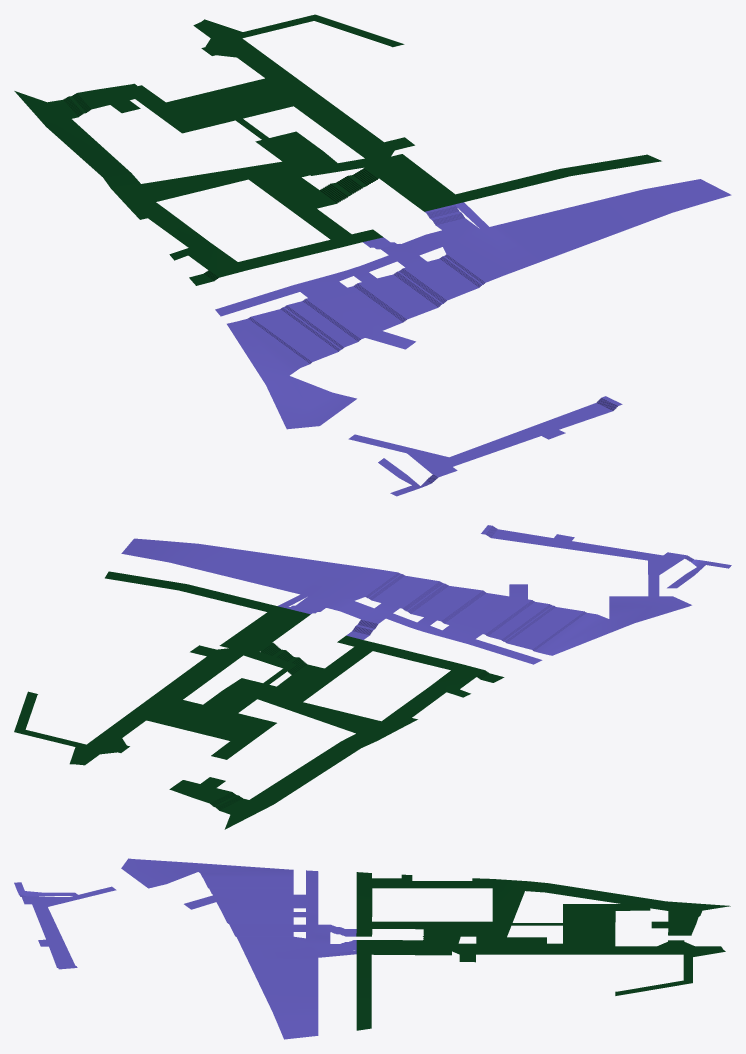
File: SM_Env_Ground_01a.fbx
3 views of the same model, one above another, from view 1: azimuth 30°, elevation 25°; view 2: azimuth 150°, elevation 25°; view 3: azimuth 270°, elevation 25° (orthographic). The views are drawn at different scales.
Visible parts, largest first — view 1: SM_Env_Ground_01a; view 2: SM_Env_Ground_01a; view 3: SM_Env_Ground_01a.
Boxes of the visible parts, bbox=[...] form: SM_Env_Ground_01a: bbox=[14, 14, 731, 496]; SM_Env_Ground_01a: bbox=[14, 525, 731, 829]; SM_Env_Ground_01a: bbox=[14, 858, 730, 1039].
Size of the model in its own units: 15561 by 1439 by 23959.
